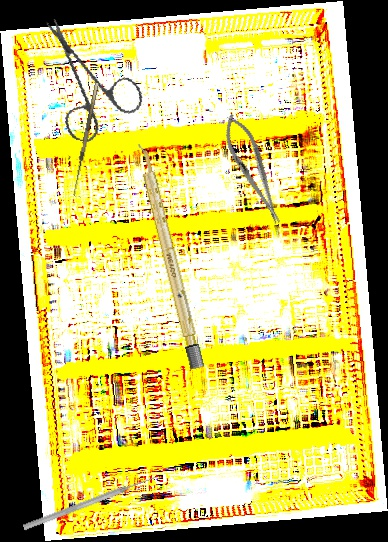Hook Surgical: (71, 82, 105, 198)
Iris Scissors: (20, 16, 157, 154)
Needle Holder: (215, 109, 291, 230)
Pusher: (22, 472, 158, 533)
Scalpel Handle: (134, 141, 205, 371)
